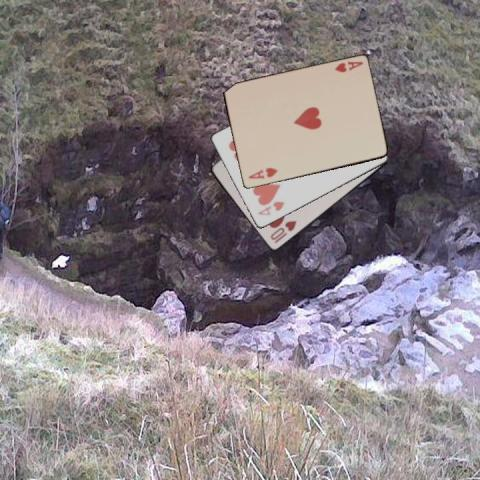10h: (267, 218, 298, 245)
4h: (255, 198, 286, 216)
Ah: (245, 164, 279, 180), (331, 59, 364, 74)
